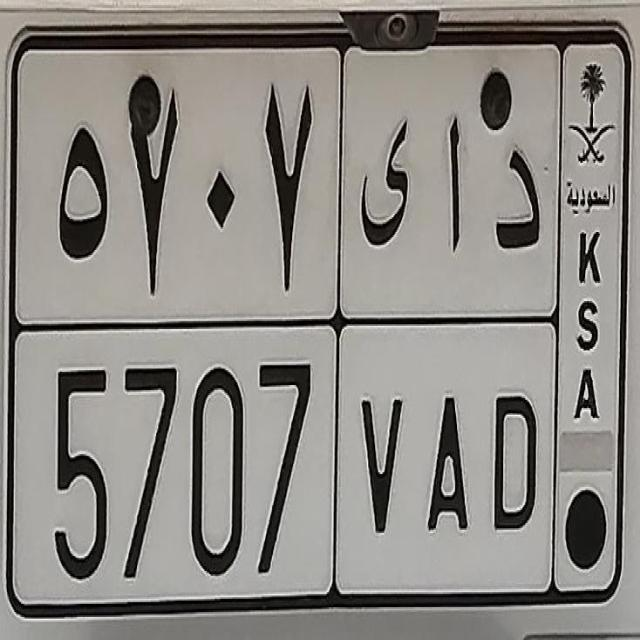license_plate: (5, 25, 632, 623)
